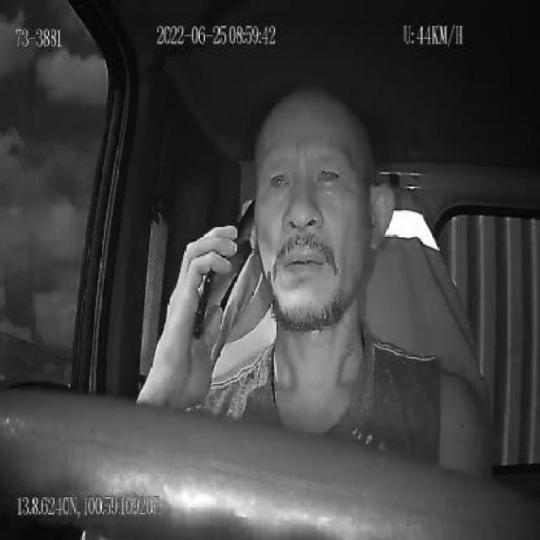phone: (194, 200, 255, 338)
